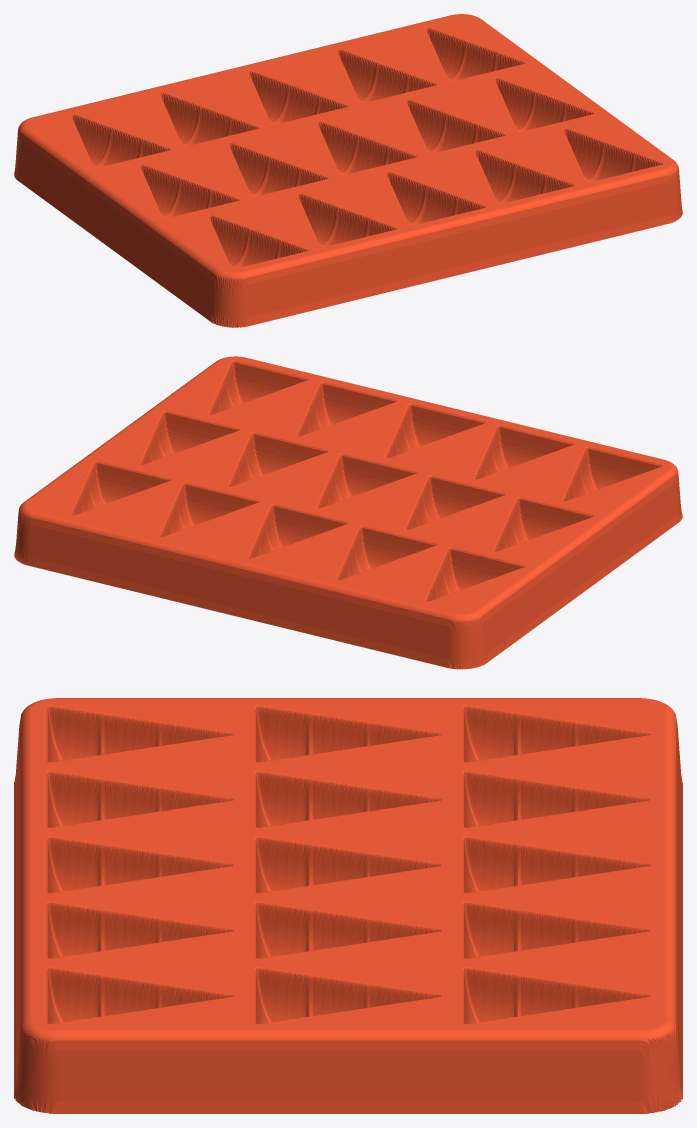
File: mold.glb
3 renders of one model, top to bottom at view 1: azimuth 30°, elevation 25°; view 2: azimuth 150°, elevation 25°; view 3: azimuth 270°, elevation 25°, orthographic. The views are drawn at different scales.
Parts seen in each view (by area): view 1: geometry_0; view 2: geometry_0; view 3: geometry_0.
Boxes of the visible parts, box(x1,y1,x2,y2) form: geometry_0: box(14, 14, 682, 327); geometry_0: box(14, 356, 682, 669); geometry_0: box(14, 698, 682, 1113).
Size of the model in its own units: 0.1703 by 0.0175 by 0.1392.
